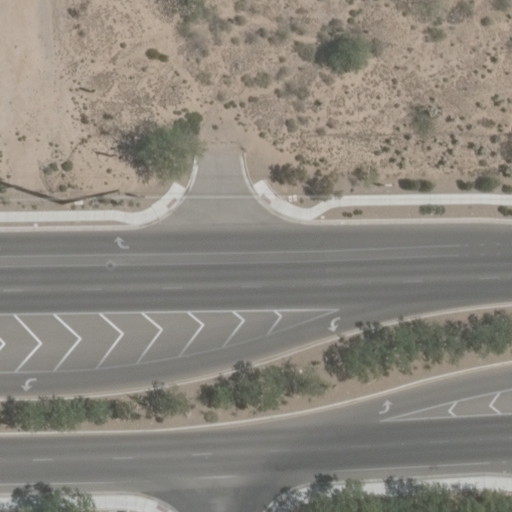DT: (53, 178, 126, 211)
